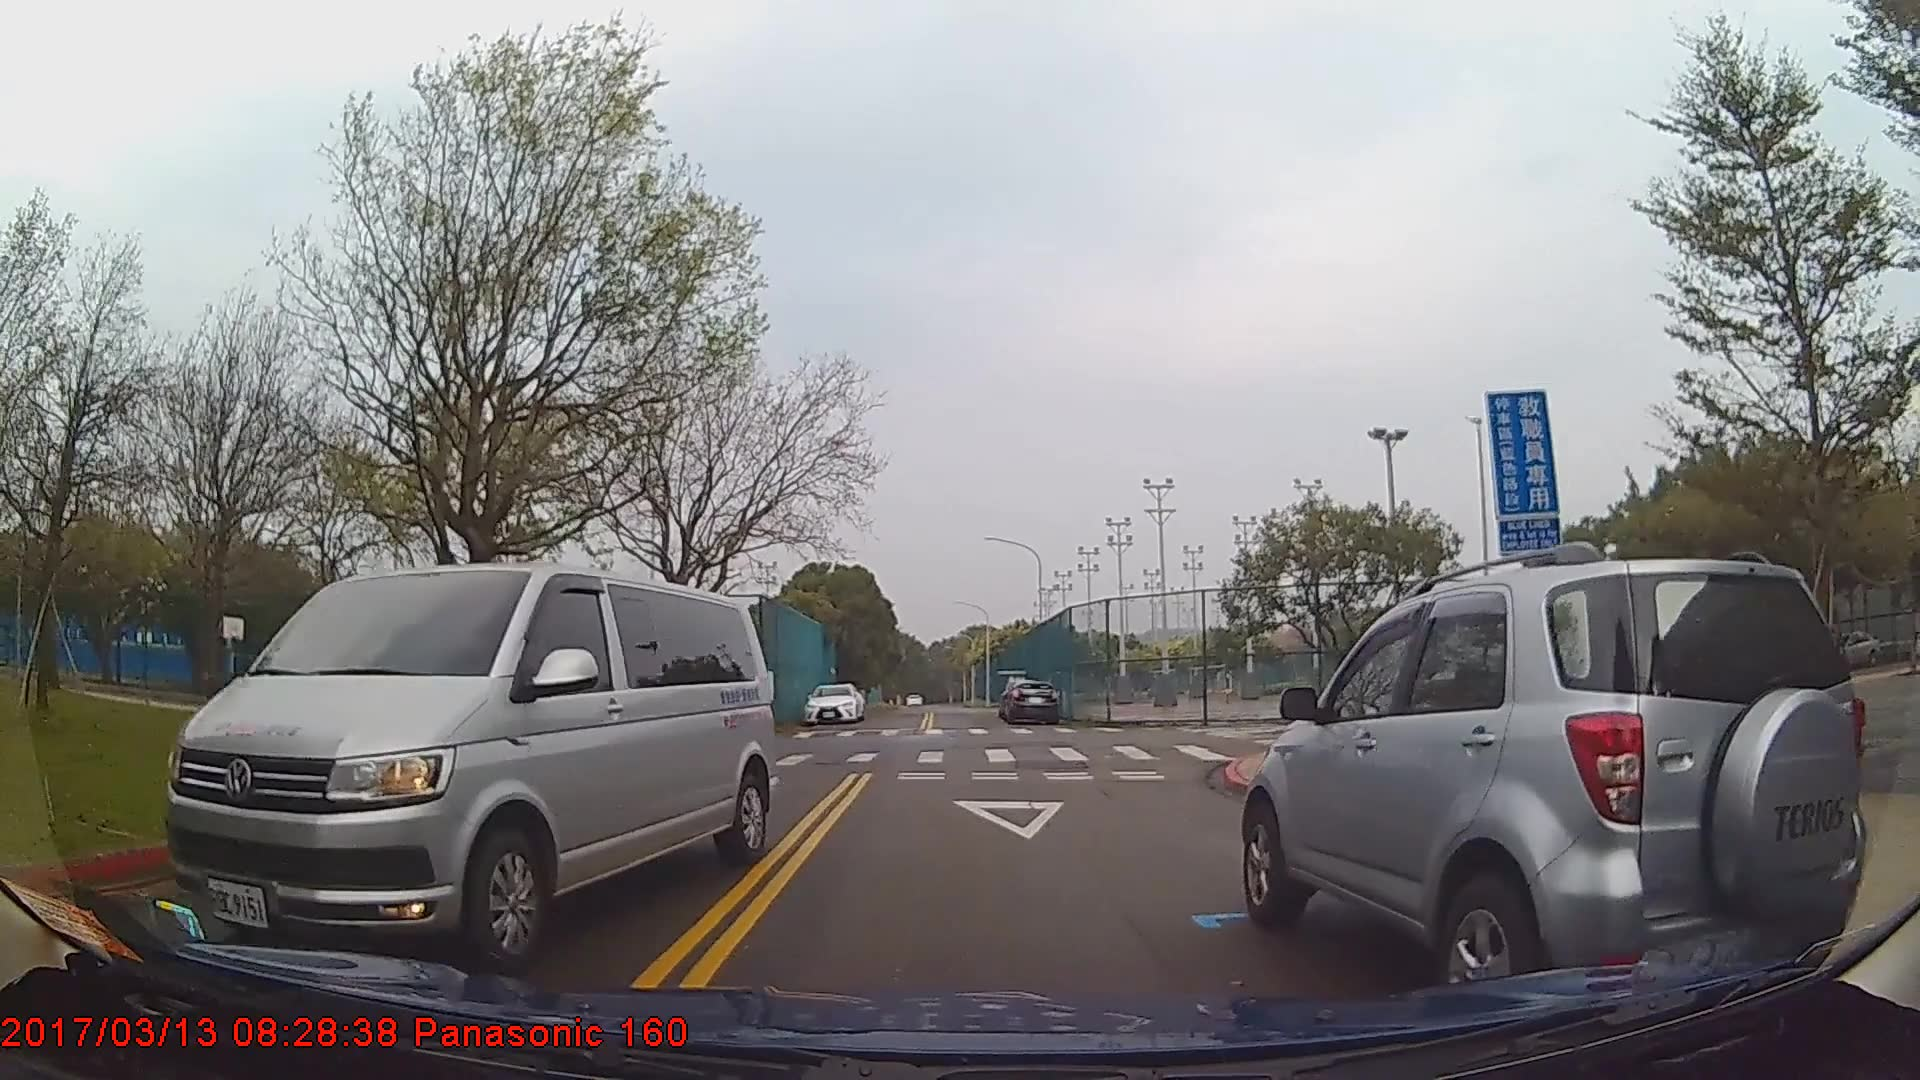vehicle: (1241, 555, 1870, 1014), (162, 558, 777, 971), (802, 680, 862, 724), (1002, 679, 1059, 725), (1822, 630, 1879, 671)
